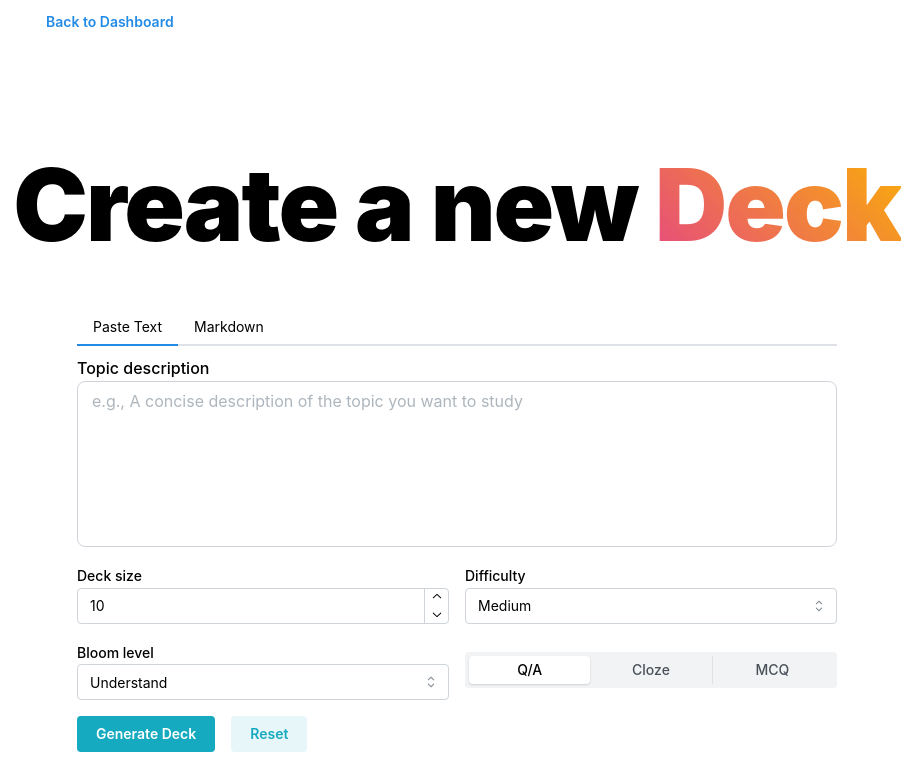
Scenario: NewDeck component › resets form when reset button is clicked
Type "Test input" into the text box labelled "Topic description". click: (457, 464)
box: [77,381,837,547]
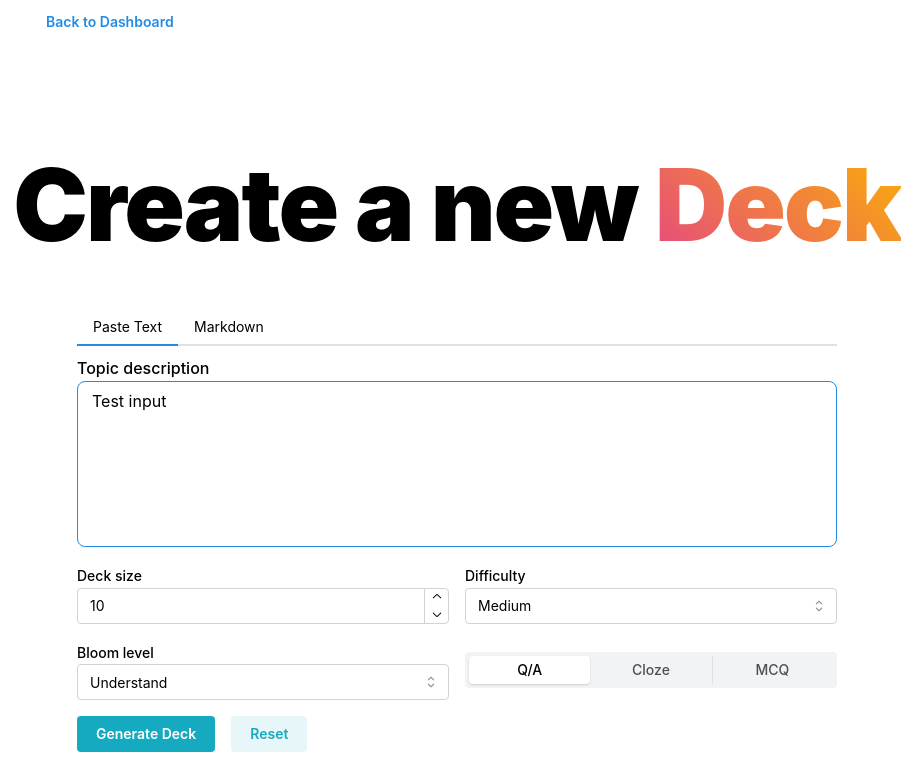
Click the button "Reset". click: (269, 734)
box: [231,716,307,752]
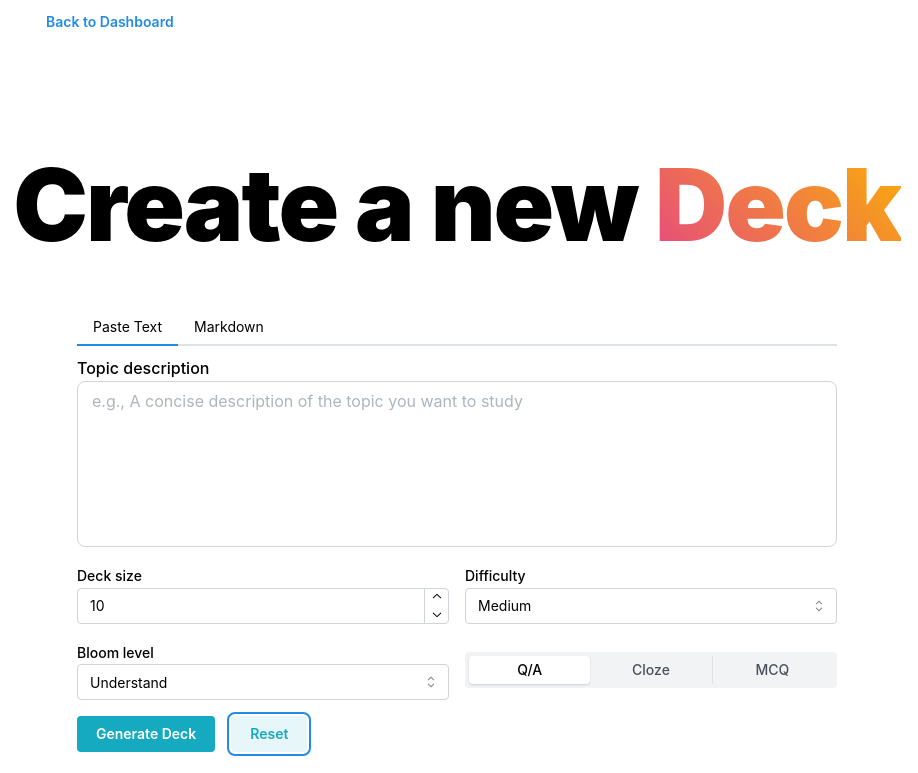
Check: the text box labelled "Topic description" is empty, box [77,381,837,547]
